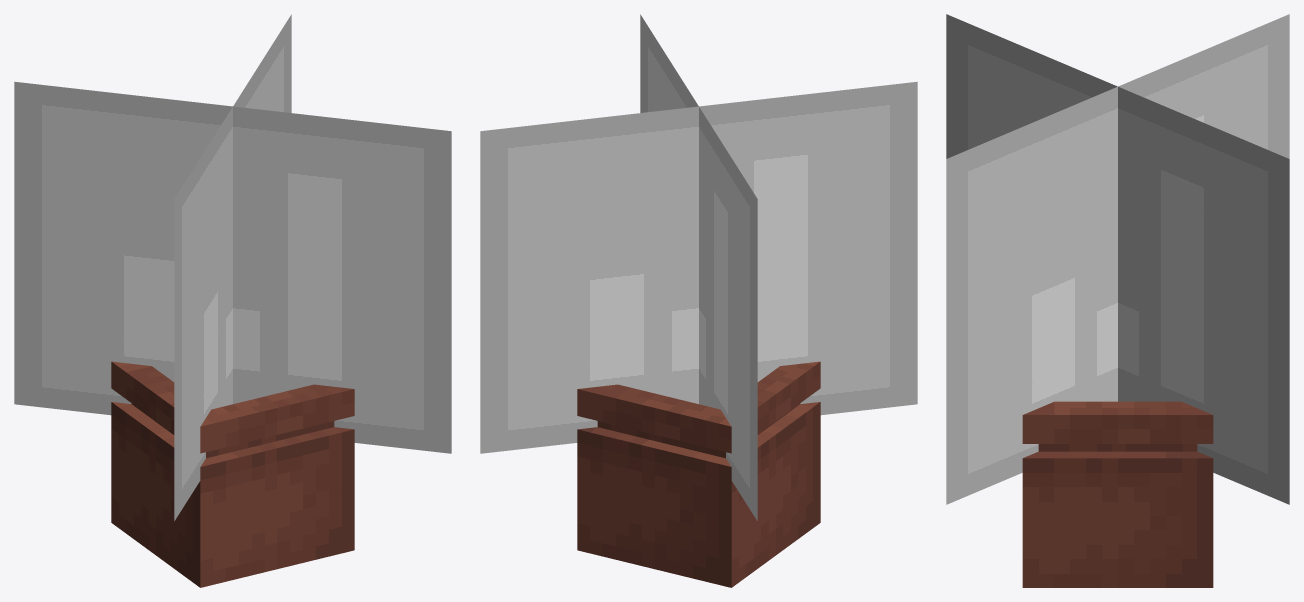
Rendered from flower_pot_cross.gltf.
3 views of the same model, side by side, from view 1: azimuth 30°, elevation 25°; view 2: azimuth 150°, elevation 25°; view 3: azimuth 270°, elevation 25° (orthographic). The views are drawn at different scales.
Parts seen in each view (by area): view 1: fcd75696-e5e1-19ac-b201-81f0a1cc80ab, f5cb2132-9d6f-73a3-ccae-c9107269df20, 83dd536c-4a33-8c31-6571-9e073b6713b9, c860a445-035f-bbac-d3e5-97b790589118, 22b9f1da-5e6c-515f-1037-97a766170b9b, 3b7bfa36-c97a-0a84-5601-0d88944abffb, ddcfa086-b51e-9430-73da-670afbdee635, 3c6e6148-7dff-6655-9c43-2df7d60bcd72, 08c17bcb-6a4a-53c9-c933-5ce5bdf1e5a0; view 2: f5cb2132-9d6f-73a3-ccae-c9107269df20, fcd75696-e5e1-19ac-b201-81f0a1cc80ab, 83dd536c-4a33-8c31-6571-9e073b6713b9, bf330411-58aa-1b01-0328-2c54a7479252, 08c17bcb-6a4a-53c9-c933-5ce5bdf1e5a0, 3b7bfa36-c97a-0a84-5601-0d88944abffb, ddcfa086-b51e-9430-73da-670afbdee635, fe9c0237-b8c8-6776-a011-79e3e38897d5; view 3: fcd75696-e5e1-19ac-b201-81f0a1cc80ab, f5cb2132-9d6f-73a3-ccae-c9107269df20, 3b7bfa36-c97a-0a84-5601-0d88944abffb, 68d0f11a-cfc5-905c-c5e4-f074f54e45e1, 22b9f1da-5e6c-515f-1037-97a766170b9b, 08c17bcb-6a4a-53c9-c933-5ce5bdf1e5a0, db34e404-969b-916d-f409-996f9b321b37.
Part boxes in pixels (box(x1,y1,x2,y2)): fcd75696-e5e1-19ac-b201-81f0a1cc80ab: box(14, 81, 451, 453); f5cb2132-9d6f-73a3-ccae-c9107269df20: box(174, 14, 291, 520); 83dd536c-4a33-8c31-6571-9e073b6713b9: box(111, 402, 225, 587); c860a445-035f-bbac-d3e5-97b790589118: box(219, 430, 328, 581); 22b9f1da-5e6c-515f-1037-97a766170b9b: box(211, 384, 354, 447); 3b7bfa36-c97a-0a84-5601-0d88944abffb: box(321, 427, 354, 556); ddcfa086-b51e-9430-73da-670afbdee635: box(126, 366, 225, 453); 3c6e6148-7dff-6655-9c43-2df7d60bcd72: box(218, 421, 334, 454); 08c17bcb-6a4a-53c9-c933-5ce5bdf1e5a0: box(111, 361, 151, 398); f5cb2132-9d6f-73a3-ccae-c9107269df20: box(480, 81, 917, 453); fcd75696-e5e1-19ac-b201-81f0a1cc80ab: box(640, 14, 757, 520); 83dd536c-4a33-8c31-6571-9e073b6713b9: box(706, 402, 820, 587); bf330411-58aa-1b01-0328-2c54a7479252: box(603, 430, 712, 581); 08c17bcb-6a4a-53c9-c933-5ce5bdf1e5a0: box(577, 384, 731, 453); 3b7bfa36-c97a-0a84-5601-0d88944abffb: box(577, 427, 610, 556); ddcfa086-b51e-9430-73da-670afbdee635: box(757, 361, 820, 433); fe9c0237-b8c8-6776-a011-79e3e38897d5: box(610, 424, 713, 454); fcd75696-e5e1-19ac-b201-81f0a1cc80ab: box(946, 14, 1289, 504); f5cb2132-9d6f-73a3-ccae-c9107269df20: box(946, 14, 1289, 504); 3b7bfa36-c97a-0a84-5601-0d88944abffb: box(1022, 451, 1213, 587); 68d0f11a-cfc5-905c-c5e4-f074f54e45e1: box(1054, 401, 1181, 443); 22b9f1da-5e6c-515f-1037-97a766170b9b: box(1022, 402, 1054, 443); 08c17bcb-6a4a-53c9-c933-5ce5bdf1e5a0: box(1181, 402, 1213, 443); db34e404-969b-916d-f409-996f9b321b37: box(1054, 444, 1197, 451).
Size of the model in its own units: 10.8 by 16 by 10.8.
4 materials, 4 textured.
